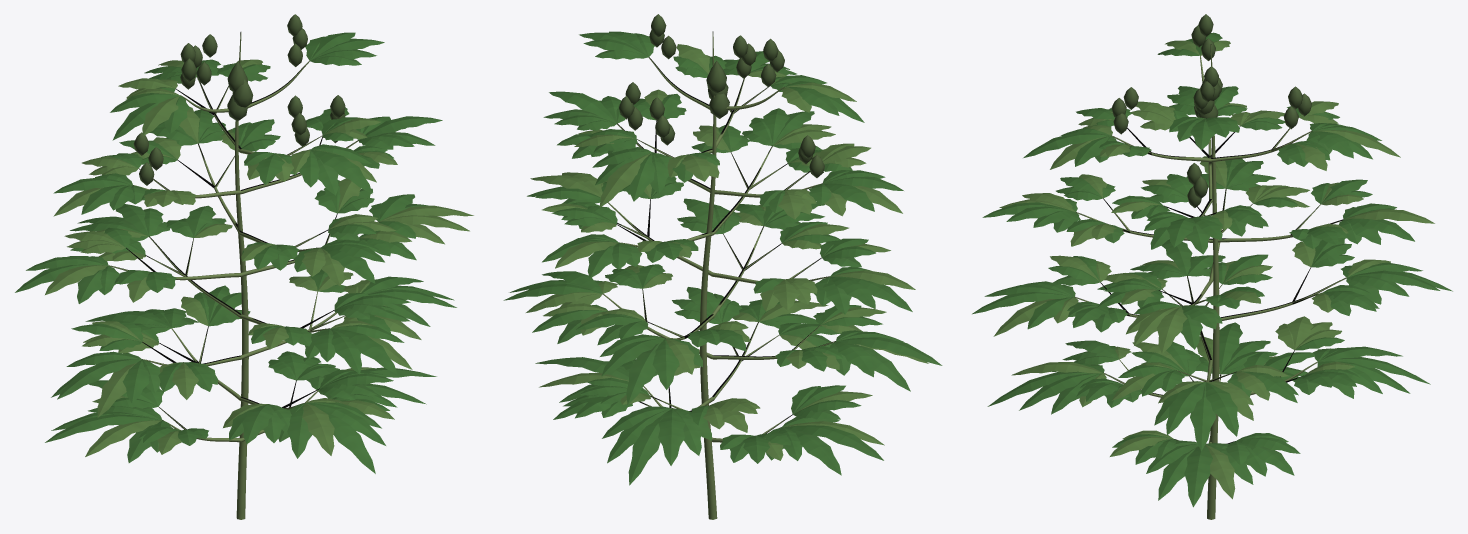
File: roslina_3.glb
3 renders of one model, left to right at view 1: azimuth 30°, elevation 25°; view 2: azimuth 150°, elevation 25°; view 3: azimuth 270°, elevation 25°, orthographic. The views are drawn at different scales.
Visible parts, largest first — view 1: Roslina; view 2: Roslina; view 3: Roslina.
Part boxes in pixels (x1,y1,x2,y2): Roslina: (15, 14, 473, 519); Roslina: (503, 14, 942, 519); Roslina: (972, 14, 1452, 519).
Size of the model in its own units: 0.9098 by 1.01 by 0.9243.
1 material, 1 textured.
